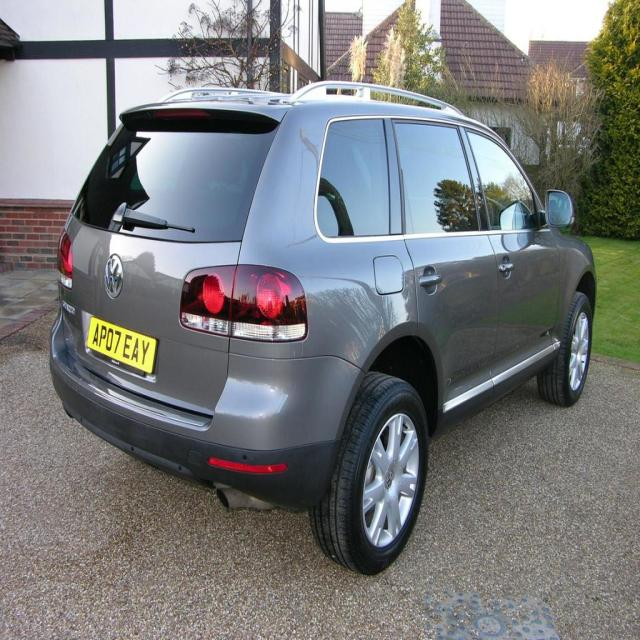car: (41, 73, 601, 565)
